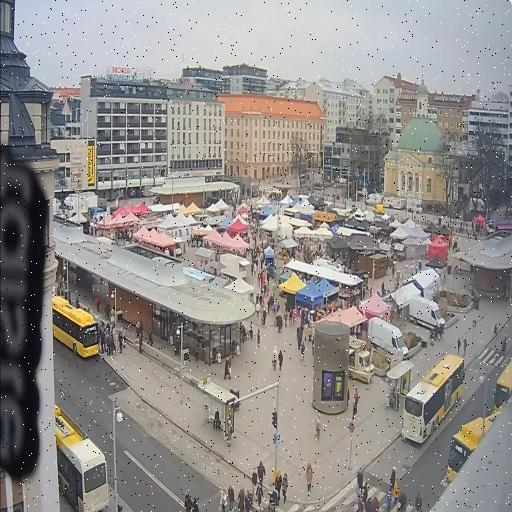bus: (54, 403, 107, 511), (401, 355, 464, 443), (446, 413, 498, 482), (52, 296, 97, 357), (494, 361, 511, 411)
delivery: (367, 317, 407, 359), (408, 297, 444, 333), (348, 337, 373, 383)
